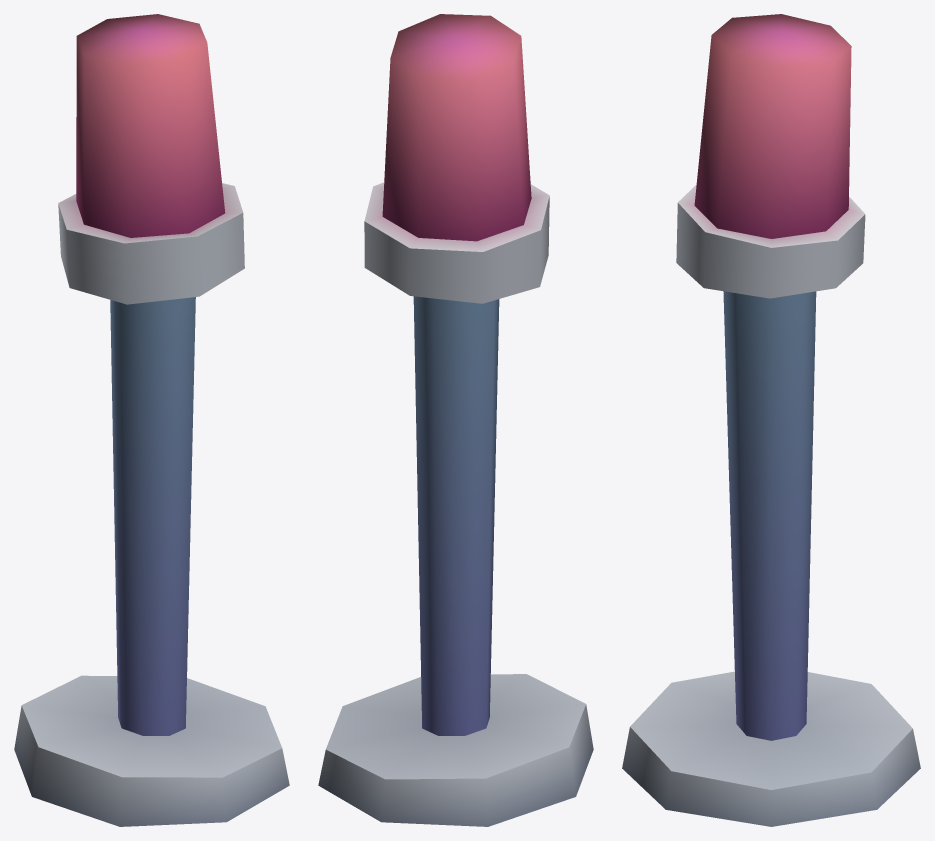
Rendered from obstacle-warning_light_H1.glb.
3 renders of one model, left to right at view 1: azimuth 30°, elevation 25°; view 2: azimuth 150°, elevation 25°; view 3: azimuth 270°, elevation 25°, orthographic.
Visible parts, largest first — view 1: obstacle-warning_light_H1; view 2: obstacle-warning_light_H1; view 3: obstacle-warning_light_H1.
Part boxes in pixels (bbox=[...]): obstacle-warning_light_H1: bbox=[14, 14, 289, 826]; obstacle-warning_light_H1: bbox=[318, 14, 593, 826]; obstacle-warning_light_H1: bbox=[622, 14, 920, 826].
Size of the model in its own units: 0.7458 by 2.18 by 0.8042.
